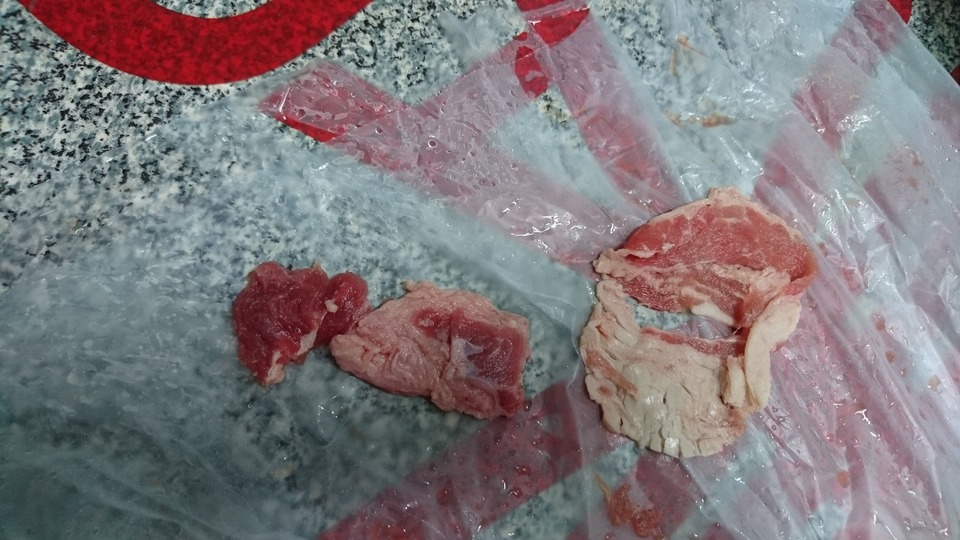restructured meat: (582, 174, 819, 468), (225, 257, 536, 417)
